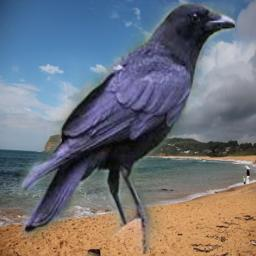Crow: (19, 2, 235, 254)
Cuckoo: (115, 88, 128, 106)
